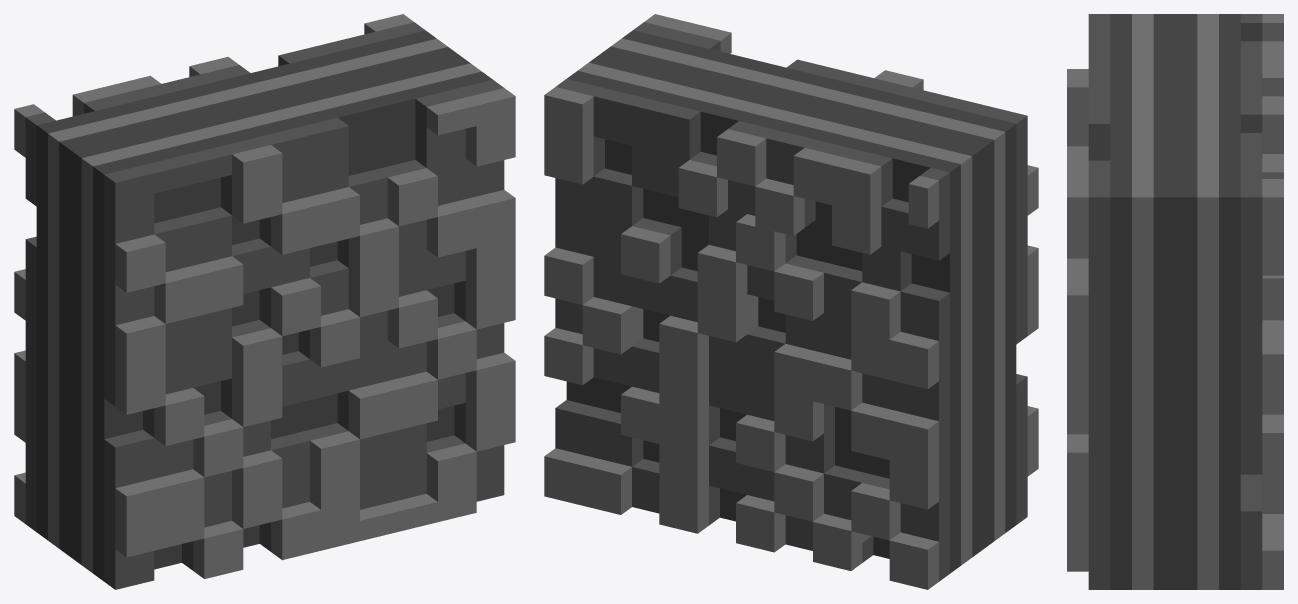
Rendered from WallGO1.vox.obj.
3 renders of one model, left to right at view 1: azimuth 30°, elevation 25°; view 2: azimuth 150°, elevation 25°; view 3: azimuth 270°, elevation 25°, orthographic. The views are drawn at different scales.
Size of the model in its own units: 2 by 2 by 1.
Materials: 1 (1 with a texture image).
